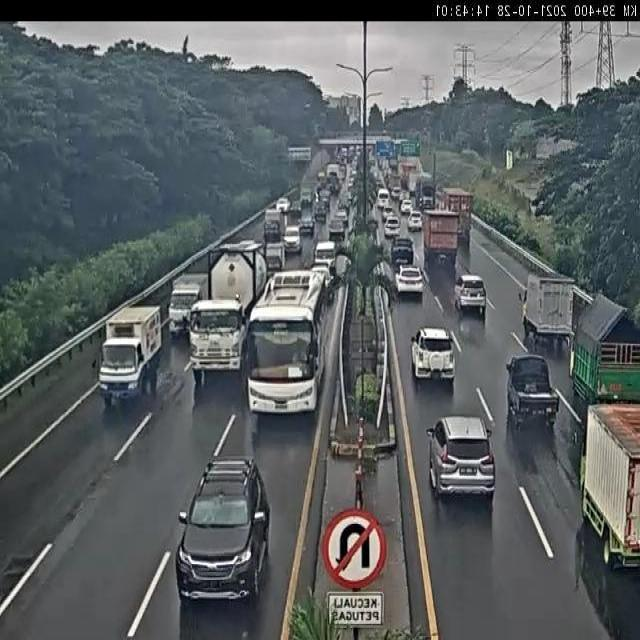Bus: (245, 264, 335, 415)
Car: (175, 455, 272, 604), (426, 414, 496, 502), (410, 326, 456, 386), (454, 274, 487, 316), (394, 265, 424, 300), (390, 237, 414, 269), (283, 226, 302, 254), (328, 215, 346, 241), (384, 215, 401, 237), (299, 213, 315, 236), (407, 212, 423, 232), (318, 189, 332, 210), (276, 197, 291, 214), (381, 206, 393, 223), (400, 199, 412, 215), (391, 186, 401, 200)
Truck: (190, 242, 270, 386), (580, 403, 640, 574), (570, 294, 638, 410), (97, 306, 163, 408), (522, 273, 575, 355), (506, 354, 560, 432), (421, 207, 460, 273), (168, 275, 207, 340), (440, 187, 473, 242), (414, 175, 436, 211), (264, 208, 284, 245), (265, 240, 286, 273), (399, 160, 420, 193), (326, 163, 342, 185)
Van: (314, 240, 337, 270), (377, 188, 390, 209)
